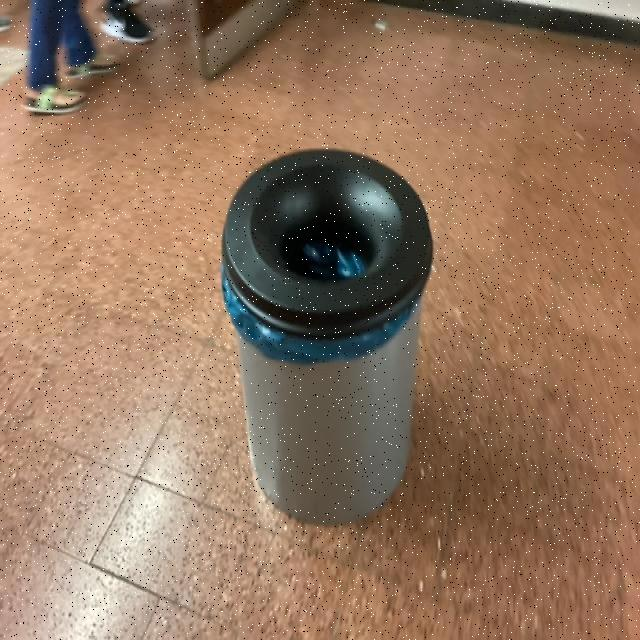garbage container: (211, 132, 444, 544)
